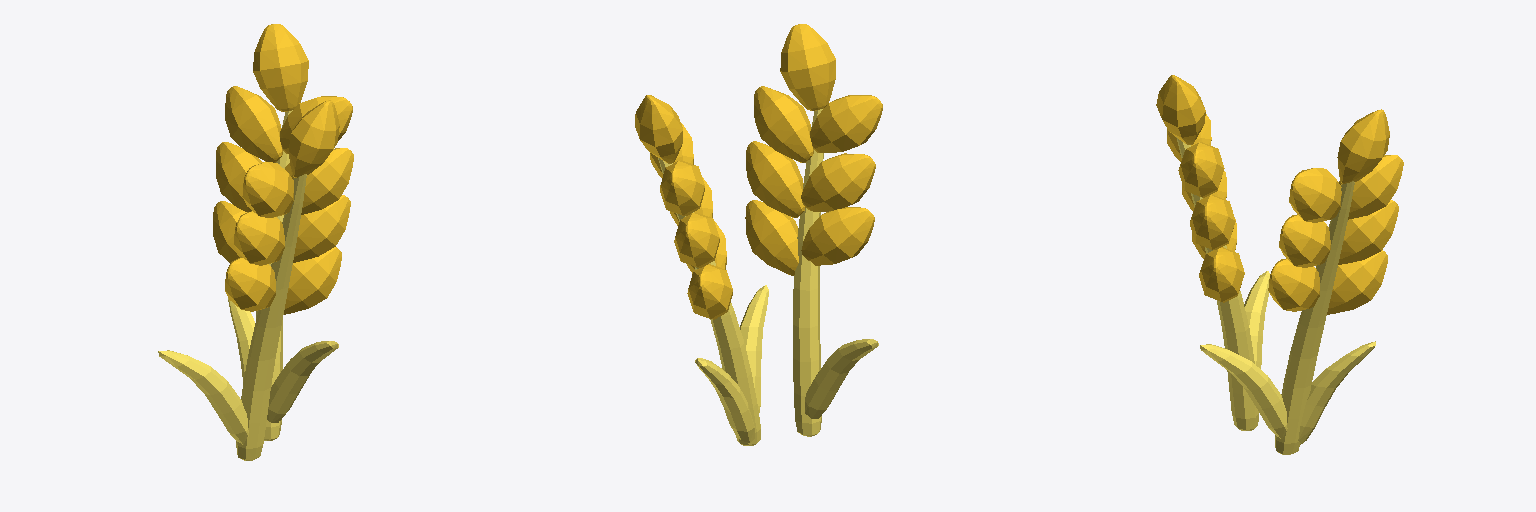
The picture shows the model from 3 angles: view 1: azimuth 30°, elevation 25°; view 2: azimuth 150°, elevation 25°; view 3: azimuth 270°, elevation 25°; orthographic projection.
Parts seen in each view (by area): view 1: WheatStage4; view 2: WheatStage4; view 3: WheatStage4.
Part boxes in pixels (x1,y1,x2,y2): WheatStage4: (158, 24, 353, 460); WheatStage4: (635, 24, 882, 445); WheatStage4: (1156, 75, 1403, 454).
Size of the model in its own units: 0.5846 by 1.02 by 0.6032.
Materials: 1 (1 with a texture image).